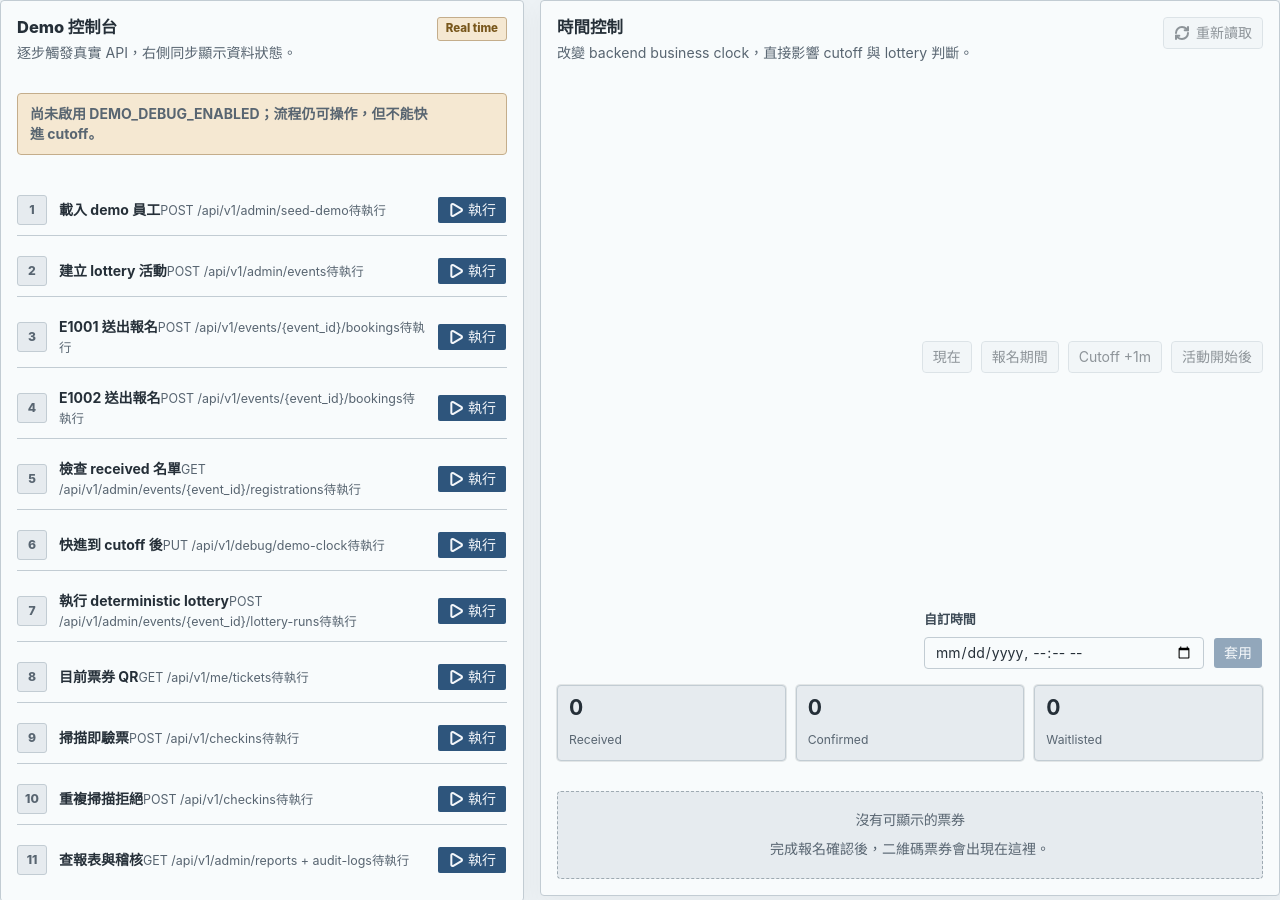
Test: DemoRunbookPage › shows a guarded failure when debug clock controls are unavailable
The image size is (1280, 900).
Expected: the text "Real time" is shown, [437,17,507,41]
Expected: the text "尚未啟用 DEMO_DEBUG_ENABLED；流程仍可操作，但不能快進 cutoff。" is shown, [30,104,494,144]
Click the button "執行" in the row of "PUT /api/v1/debug/demo-clock" at (472, 545), box [437,531,507,559]
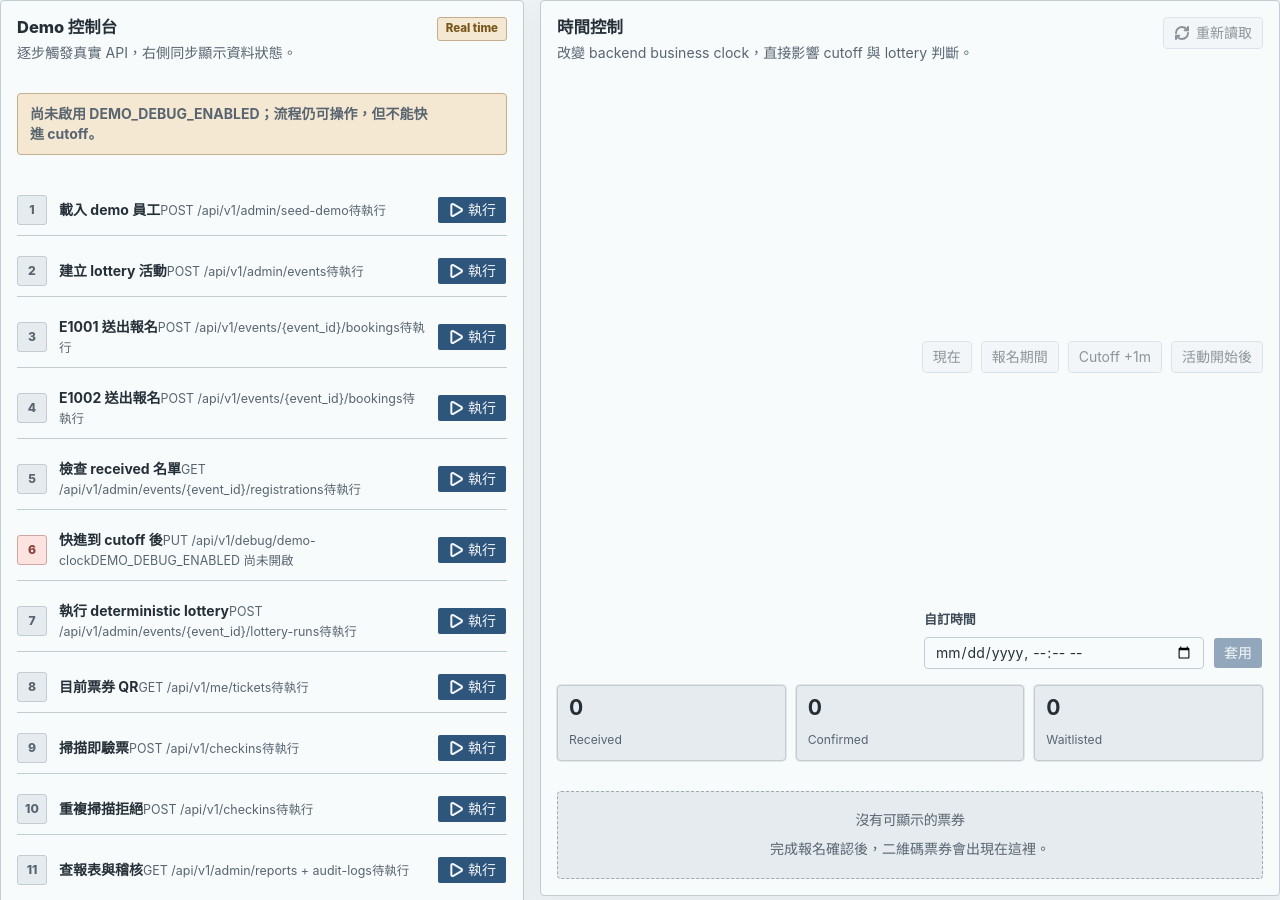
Result: the text "DEMO_DEBUG_ENABLED 尚未開啟" is shown at [91,553,293,568]
